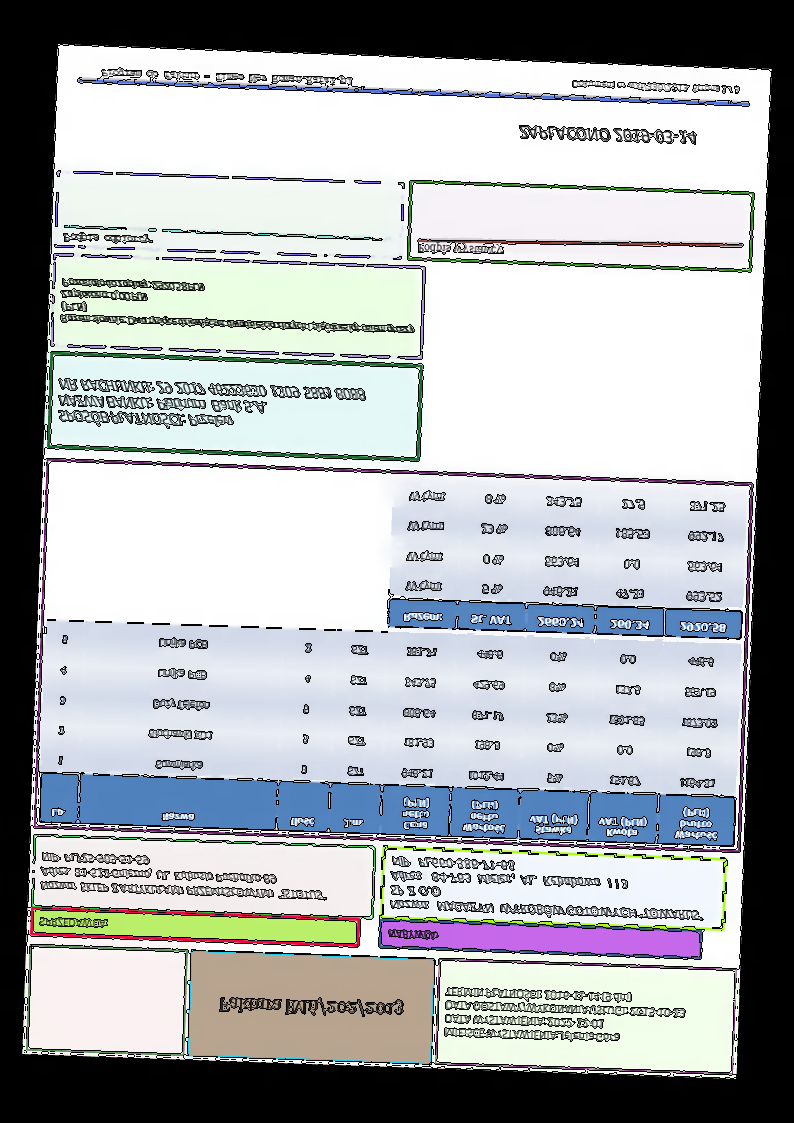Table: (38, 617, 741, 848), (387, 476, 747, 642)
TextBox: (59, 276, 417, 337), (387, 855, 706, 923), (55, 376, 367, 437), (442, 983, 688, 1048), (38, 850, 330, 903), (100, 65, 353, 88), (215, 991, 404, 1021), (516, 123, 698, 148), (569, 78, 741, 97), (417, 238, 505, 259), (61, 230, 155, 246), (37, 915, 108, 931), (386, 926, 439, 943)
